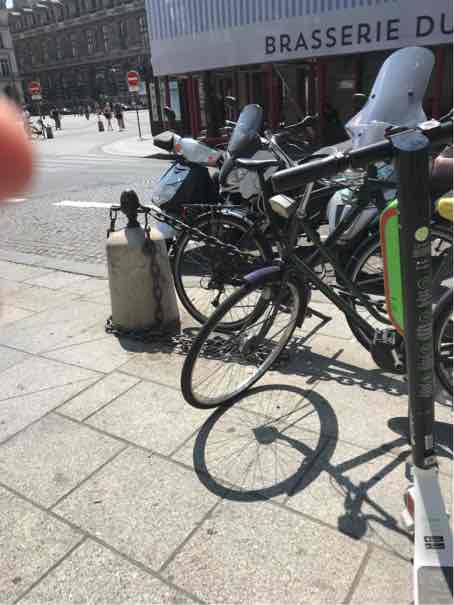scooter: (277, 122, 454, 596)
